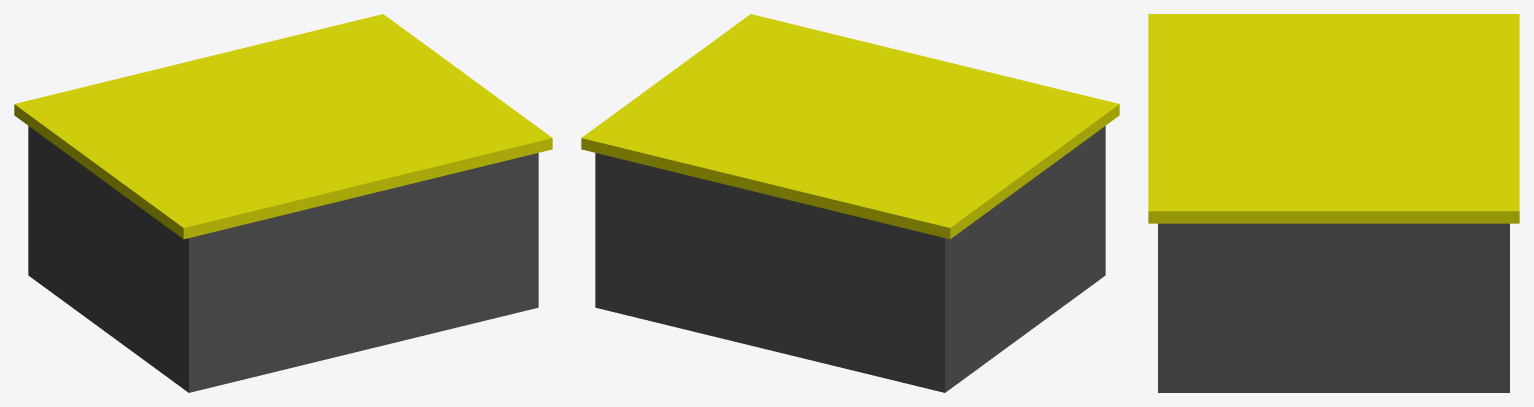
Rendered from building.fbx.
3 views of the same model, side by side, from view 1: azimuth 30°, elevation 25°; view 2: azimuth 150°, elevation 25°; view 3: azimuth 270°, elevation 25° (orthographic). The views are drawn at different scales.
Parts seen in each view (by area): view 1: building; view 2: building; view 3: building.
Boxes of the visible parts, box(x1,y1,x2,y2) form: building: box(14, 14, 552, 392); building: box(581, 14, 1119, 392); building: box(1148, 14, 1519, 392).
Bounding box in the file's own units: 18.85 × 8.32 × 14.99.
